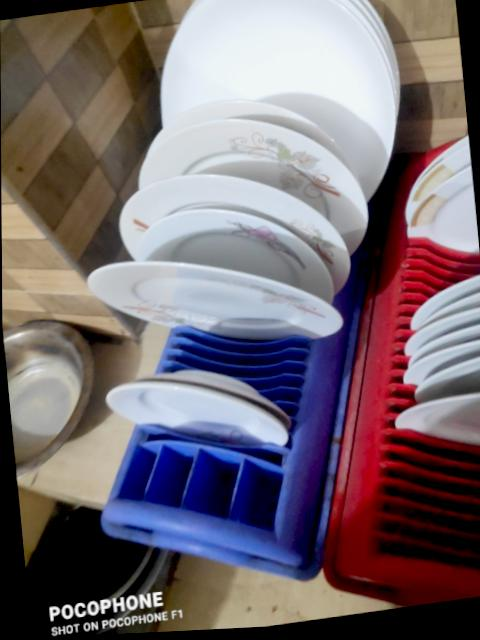Plate: (162, 0, 397, 199), (139, 119, 368, 253), (120, 175, 350, 270), (88, 262, 343, 340), (137, 208, 334, 303), (179, 204, 350, 293), (148, 100, 353, 172), (107, 380, 287, 445), (139, 370, 290, 430), (339, 0, 400, 108), (408, 167, 479, 252), (406, 137, 470, 223), (395, 393, 479, 445), (411, 275, 479, 330), (405, 308, 479, 355), (404, 340, 479, 386), (415, 356, 479, 402), (409, 324, 479, 366), (425, 292, 479, 324)
